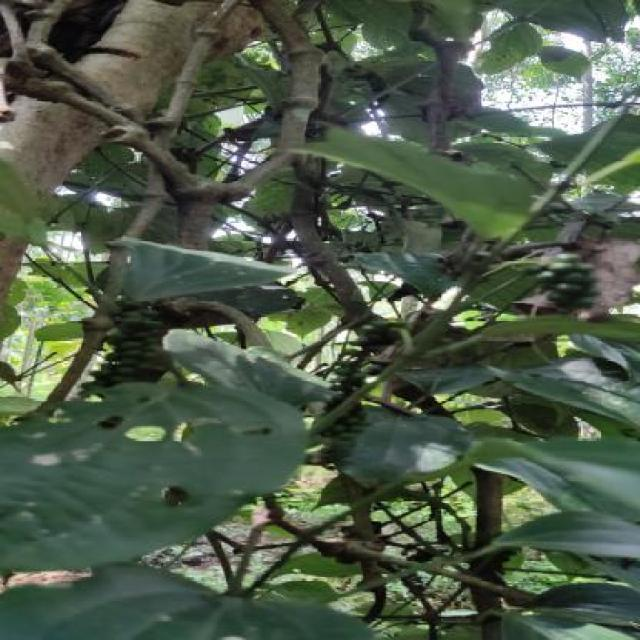UNRIPE: (85, 301, 160, 394), (321, 326, 374, 439), (542, 254, 599, 308)
